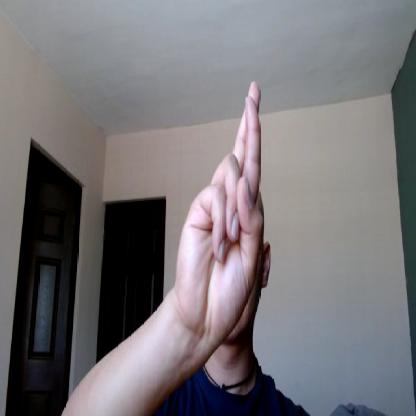R: (176, 80, 263, 336)
